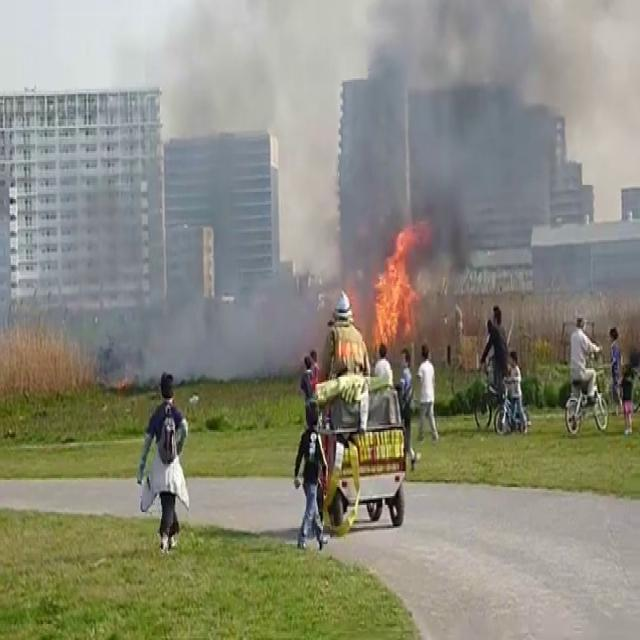Fire: (368, 220, 432, 348)
Smoke: (94, 0, 522, 340)
